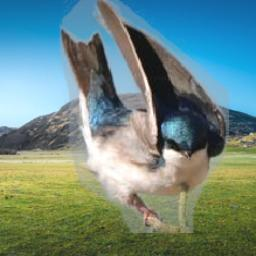Swallow: (58, 0, 228, 234)
